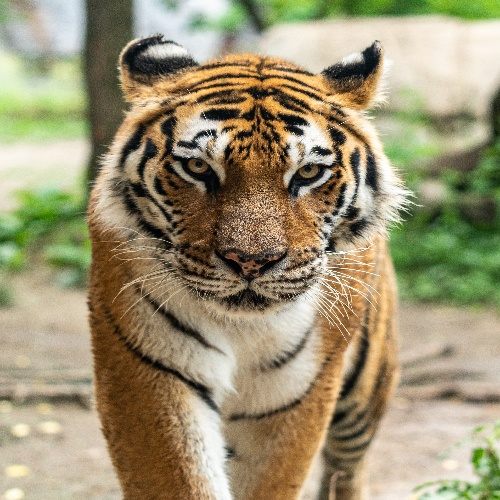tiger: (77, 16, 432, 486)
